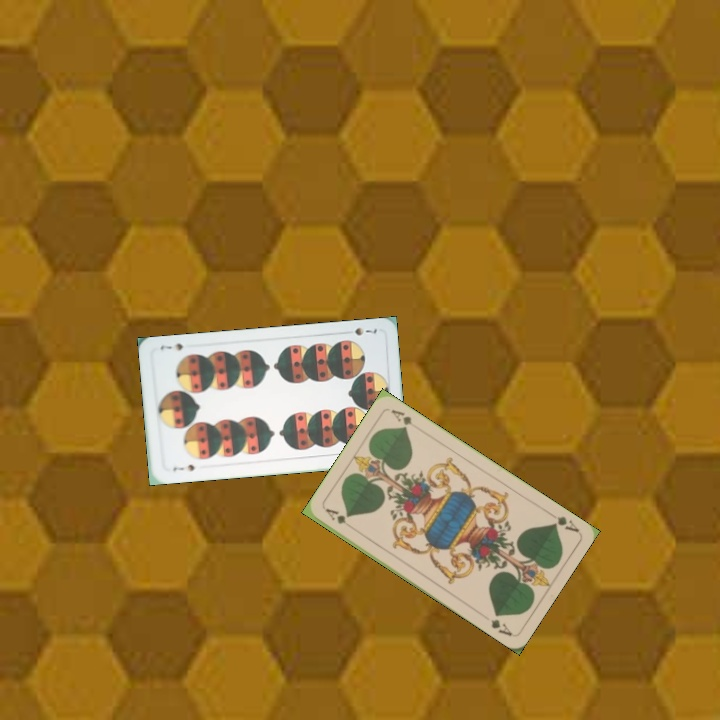GA: (321, 504, 357, 532), (545, 508, 581, 535)
S7: (350, 323, 379, 338), (169, 460, 197, 474)
